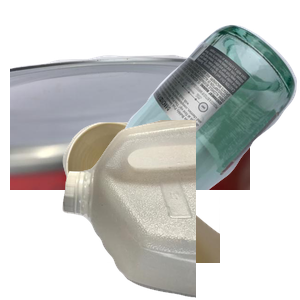glass: (86, 22, 300, 202)
metal: (10, 52, 250, 232)
plastic: (60, 120, 300, 300)
trash: (60, 120, 300, 300)
